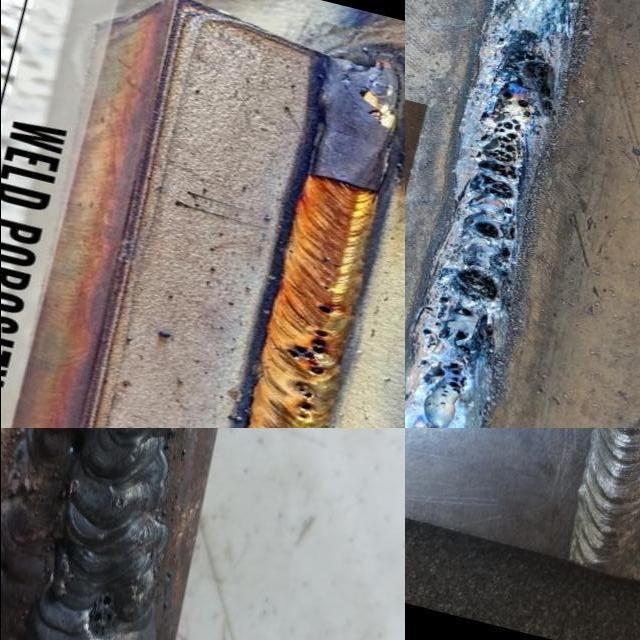defect: (465, 45, 557, 199), (278, 325, 334, 378), (415, 357, 469, 411), (83, 586, 124, 640), (452, 265, 501, 304), (475, 218, 517, 241), (292, 381, 315, 421), (476, 309, 502, 343), (452, 329, 474, 357), (107, 494, 126, 514), (321, 255, 343, 270), (312, 301, 335, 314), (451, 306, 475, 318), (498, 246, 513, 256), (503, 204, 514, 217), (321, 283, 335, 293), (420, 304, 435, 312), (421, 327, 434, 335), (424, 340, 437, 348), (430, 320, 444, 327), (437, 295, 449, 303), (498, 270, 510, 275), (499, 36, 506, 44)
